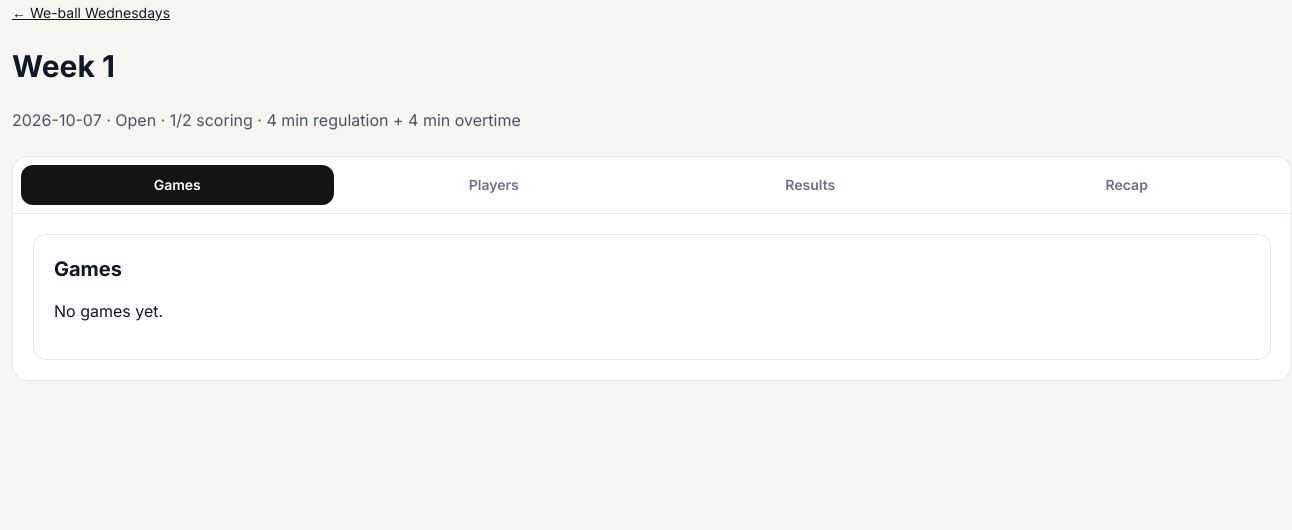
scrimmage membership and MVP › weekly stats expose the weekly formula and manual game rules
The image size is (1292, 530).
Check: the heading "Week 1" is shown, box left=12, top=48, right=115, bottom=84
Check: the heading "Weekly stats & MVP" is not shown
Click the tab "Players": (494, 185) left=338, top=165, right=650, bottom=205
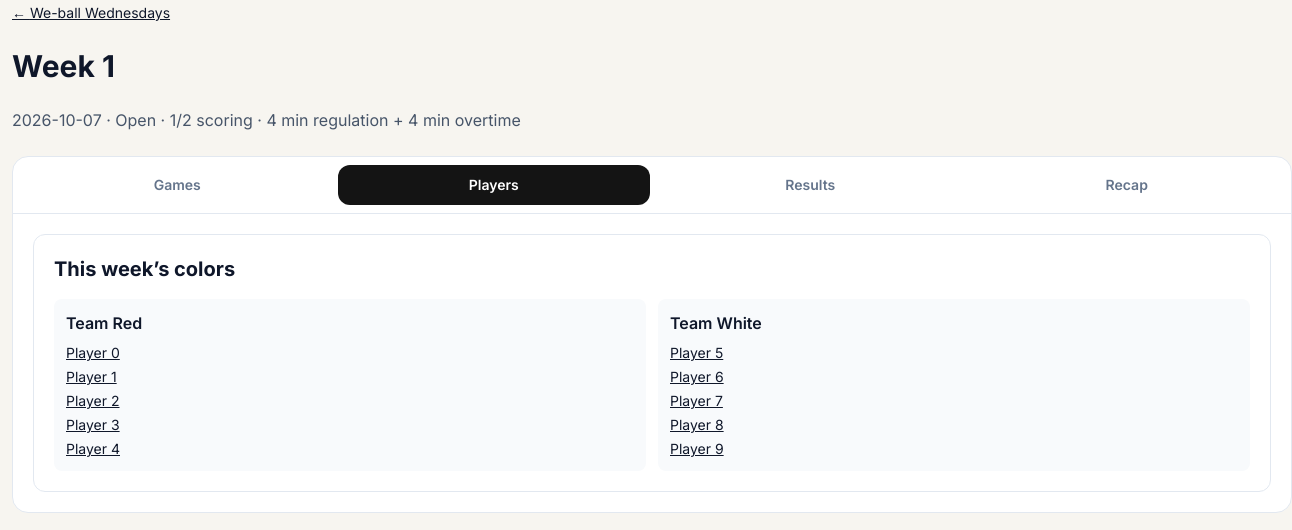
Click the tab "Results": (810, 185) left=654, top=165, right=966, bottom=205
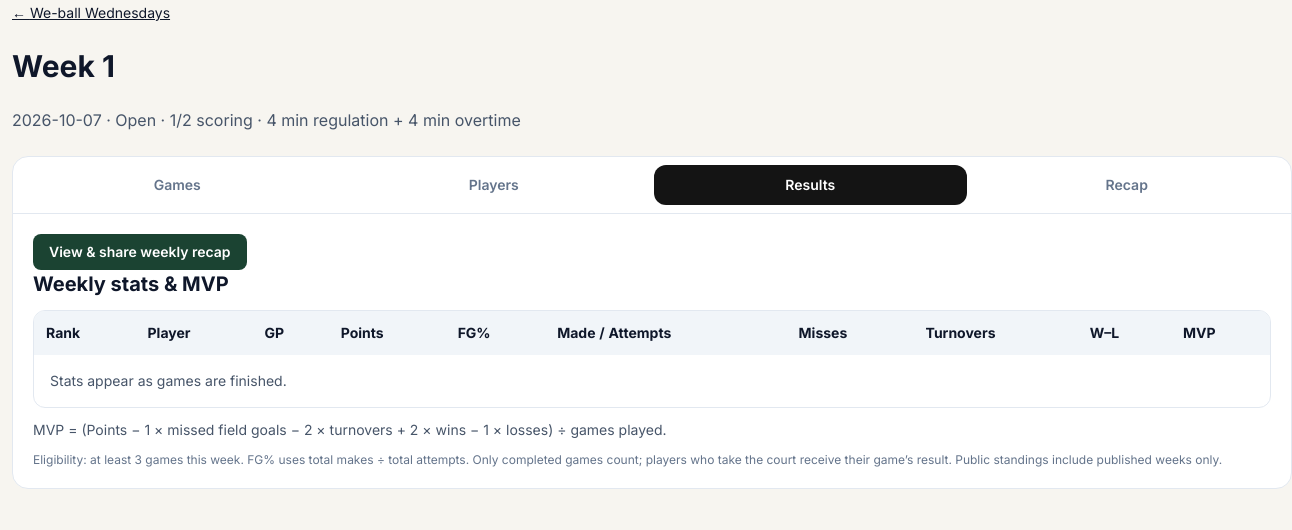
Check: the text "1/2 scoring · 4 min regulation + 4 min overtime" is shown, box left=12, top=110, right=521, bottom=130
Check: the text "at least 3 games this week" is shown, box left=33, top=452, right=244, bottom=467
